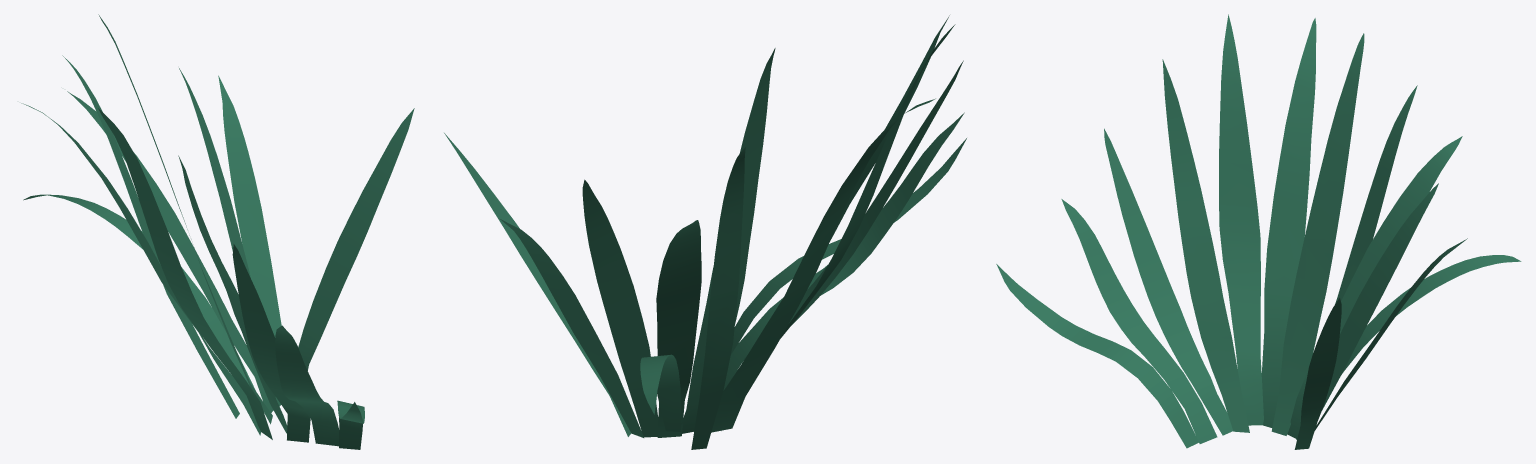
File: plant_agave_B.fbx
3 views of the same model, side by side, from view 1: azimuth 30°, elevation 25°; view 2: azimuth 150°, elevation 25°; view 3: azimuth 270°, elevation 25° (orthographic). The views are drawn at different scales.
Visible parts, largest first — view 1: agave_B_leaf_K, agave_B_leaf_J, agave_B_leaf_A, agave_B_leaf_E, agave_B_leaf_G, agave_B_leaf_M, agave_B_leaf_F, agave_B_leaf_H, agave_B_leaf_C, agave_B_leaf_B, agave_B_leaf_I, agave_B_leaf_L (+1 smaller); view 2: agave_B_leaf_F, agave_B_leaf_I, agave_B_leaf_G, agave_B_leaf_C, agave_B_leaf_D, agave_B_leaf_J, agave_B_leaf_M, agave_B_leaf_E, agave_B_leaf_A, agave_B_leaf_H, agave_B_leaf_L, agave_B_leaf_K (+1 smaller); view 3: agave_B_leaf_A, agave_B_leaf_C, agave_B_leaf_D, agave_B_leaf_B, agave_B_leaf_E, agave_B_leaf_M, agave_B_leaf_L, agave_B_leaf_G, agave_B_leaf_I, agave_B_leaf_K, agave_B_leaf_F, agave_B_leaf_H (+1 smaller).
Boxes of the visible parts, x1=… form: agave_B_leaf_K: x1=298, y1=108, x2=414, y2=370; agave_B_leaf_J: x1=218, y1=75, x2=281, y2=337; agave_B_leaf_A: x1=98, y1=108, x2=272, y2=439; agave_B_leaf_E: x1=232, y1=244, x2=310, y2=442; agave_B_leaf_G: x1=67, y1=91, x2=273, y2=412; agave_B_leaf_M: x1=275, y1=325, x2=339, y2=446; agave_B_leaf_F: x1=62, y1=55, x2=239, y2=418; agave_B_leaf_H: x1=23, y1=194, x2=255, y2=390; agave_B_leaf_C: x1=21, y1=103, x2=260, y2=435; agave_B_leaf_B: x1=178, y1=155, x2=287, y2=433; agave_B_leaf_I: x1=179, y1=68, x2=281, y2=406; agave_B_leaf_L: x1=337, y1=400, x2=364, y2=449; agave_B_leaf_F: x1=691, y1=147, x2=745, y2=449; agave_B_leaf_I: x1=582, y1=179, x2=658, y2=437; agave_B_leaf_G: x1=656, y1=220, x2=701, y2=437; agave_B_leaf_C: x1=711, y1=98, x2=935, y2=432; agave_B_leaf_D: x1=681, y1=48, x2=775, y2=433; agave_B_leaf_J: x1=500, y1=219, x2=643, y2=437; agave_B_leaf_M: x1=723, y1=112, x2=964, y2=390; agave_B_leaf_E: x1=742, y1=60, x2=963, y2=363; agave_B_leaf_A: x1=721, y1=24, x2=955, y2=430; agave_B_leaf_H: x1=640, y1=354, x2=681, y2=431; agave_B_leaf_L: x1=731, y1=138, x2=966, y2=354; agave_B_leaf_K: x1=444, y1=133, x2=631, y2=436; agave_B_leaf_A: x1=1219, y1=14, x2=1263, y2=425; agave_B_leaf_C: x1=1261, y1=18, x2=1316, y2=427; agave_B_leaf_D: x1=1271, y1=33, x2=1364, y2=435; agave_B_leaf_B: x1=1162, y1=59, x2=1249, y2=432; agave_B_leaf_E: x1=1104, y1=128, x2=1232, y2=435; agave_B_leaf_M: x1=1061, y1=199, x2=1217, y2=443; agave_B_leaf_L: x1=996, y1=264, x2=1198, y2=448; agave_B_leaf_G: x1=1287, y1=136, x2=1462, y2=438; agave_B_leaf_I: x1=1296, y1=183, x2=1438, y2=439; agave_B_leaf_K: x1=1294, y1=298, x2=1341, y2=449; agave_B_leaf_F: x1=1335, y1=85, x2=1417, y2=304; agave_B_leaf_H: x1=1341, y1=255, x2=1521, y2=374.
Size of the model in its own units: 80 by 73.92 by 101.
